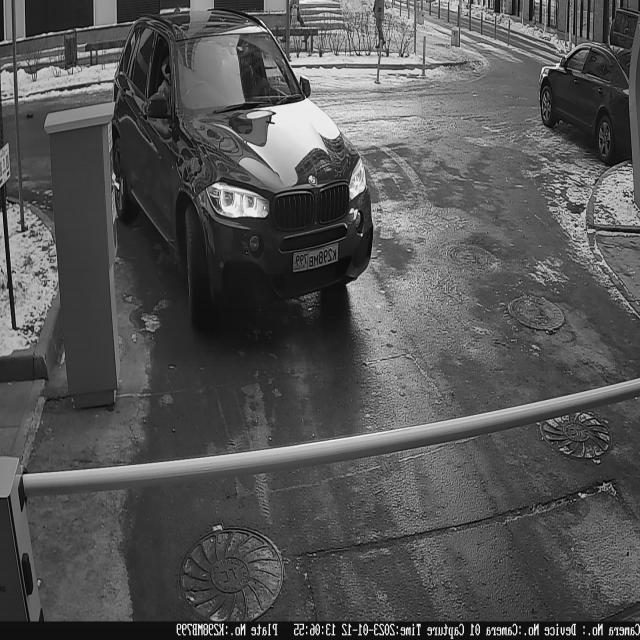car-plate-numbers: (288, 239, 343, 276)
